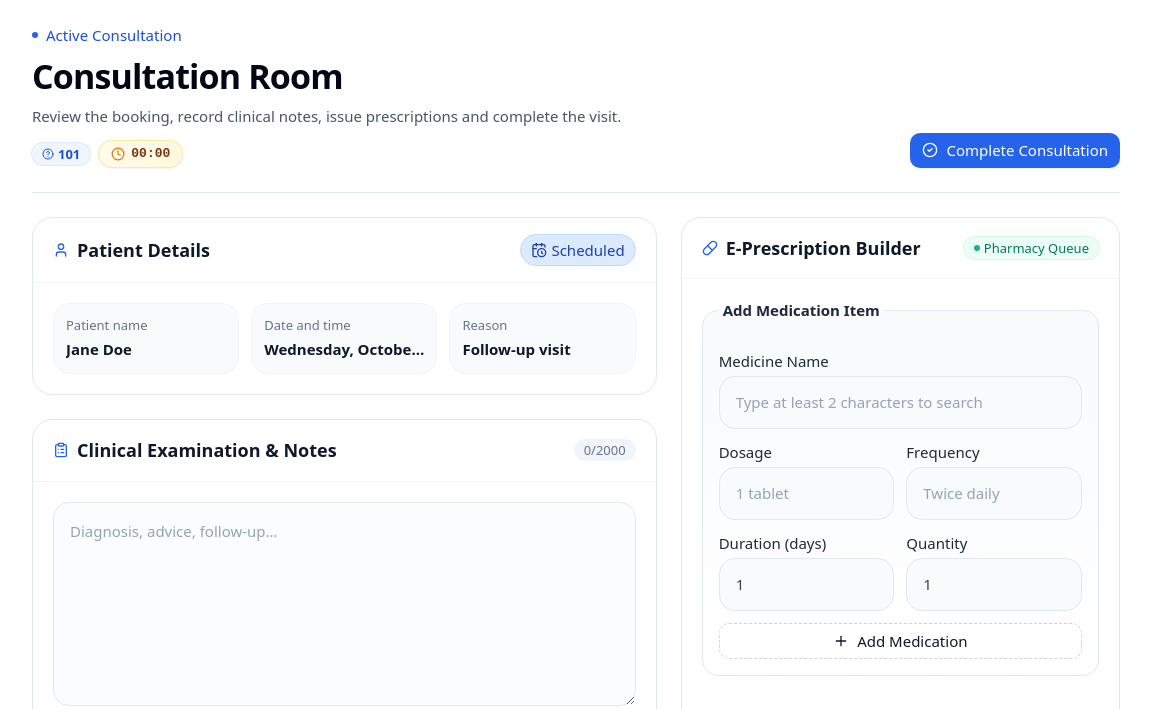
Scenario: ConsultationPage (DOC-04) — full consultation workflow › completes the appointment from this page only (AC4)
The width and height of the screenshot is (1152, 709).
Expected: the heading "Consultation Room" is shown, [32,52,343,98]
Expected: the heading "Patient Details" is shown, [77,236,210,264]
Click the button "Complete Consultation".
click(1015, 150)  # box [910,133,1120,168]
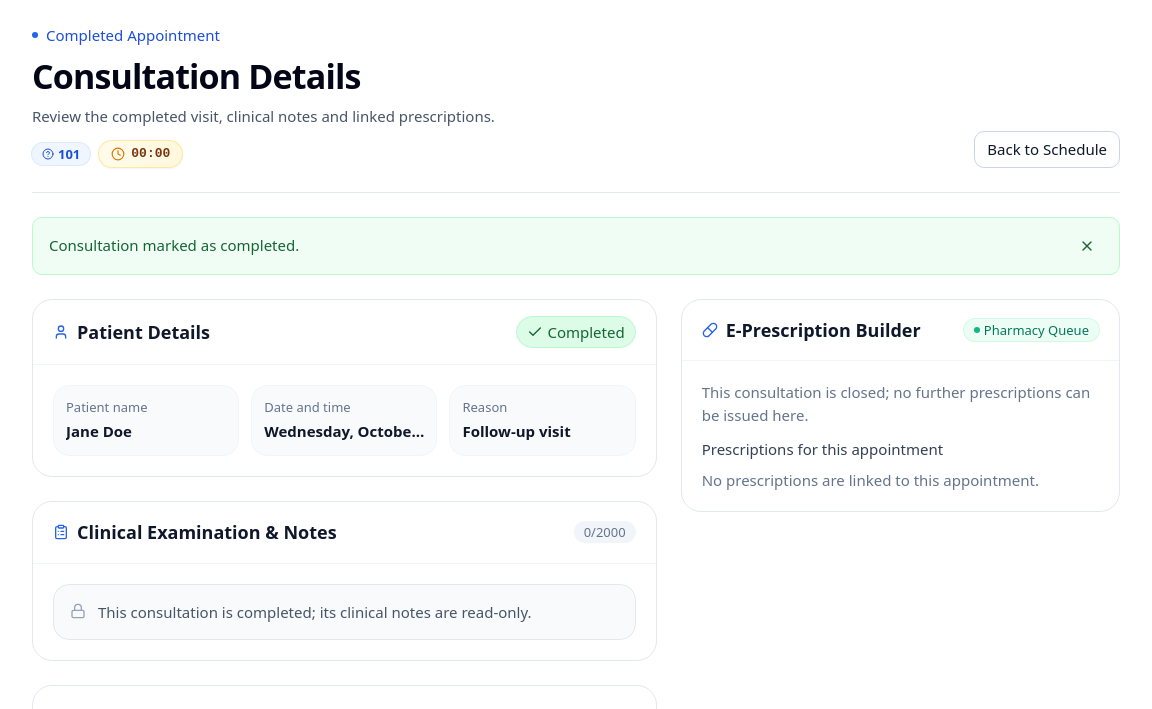
Expected: the text "Consultation marked as completed." is shown, [49,234,299,256]
Expected: the text "Completed" is shown, [547,321,625,343]
Expected: the button "Complete Consultation" is gone
